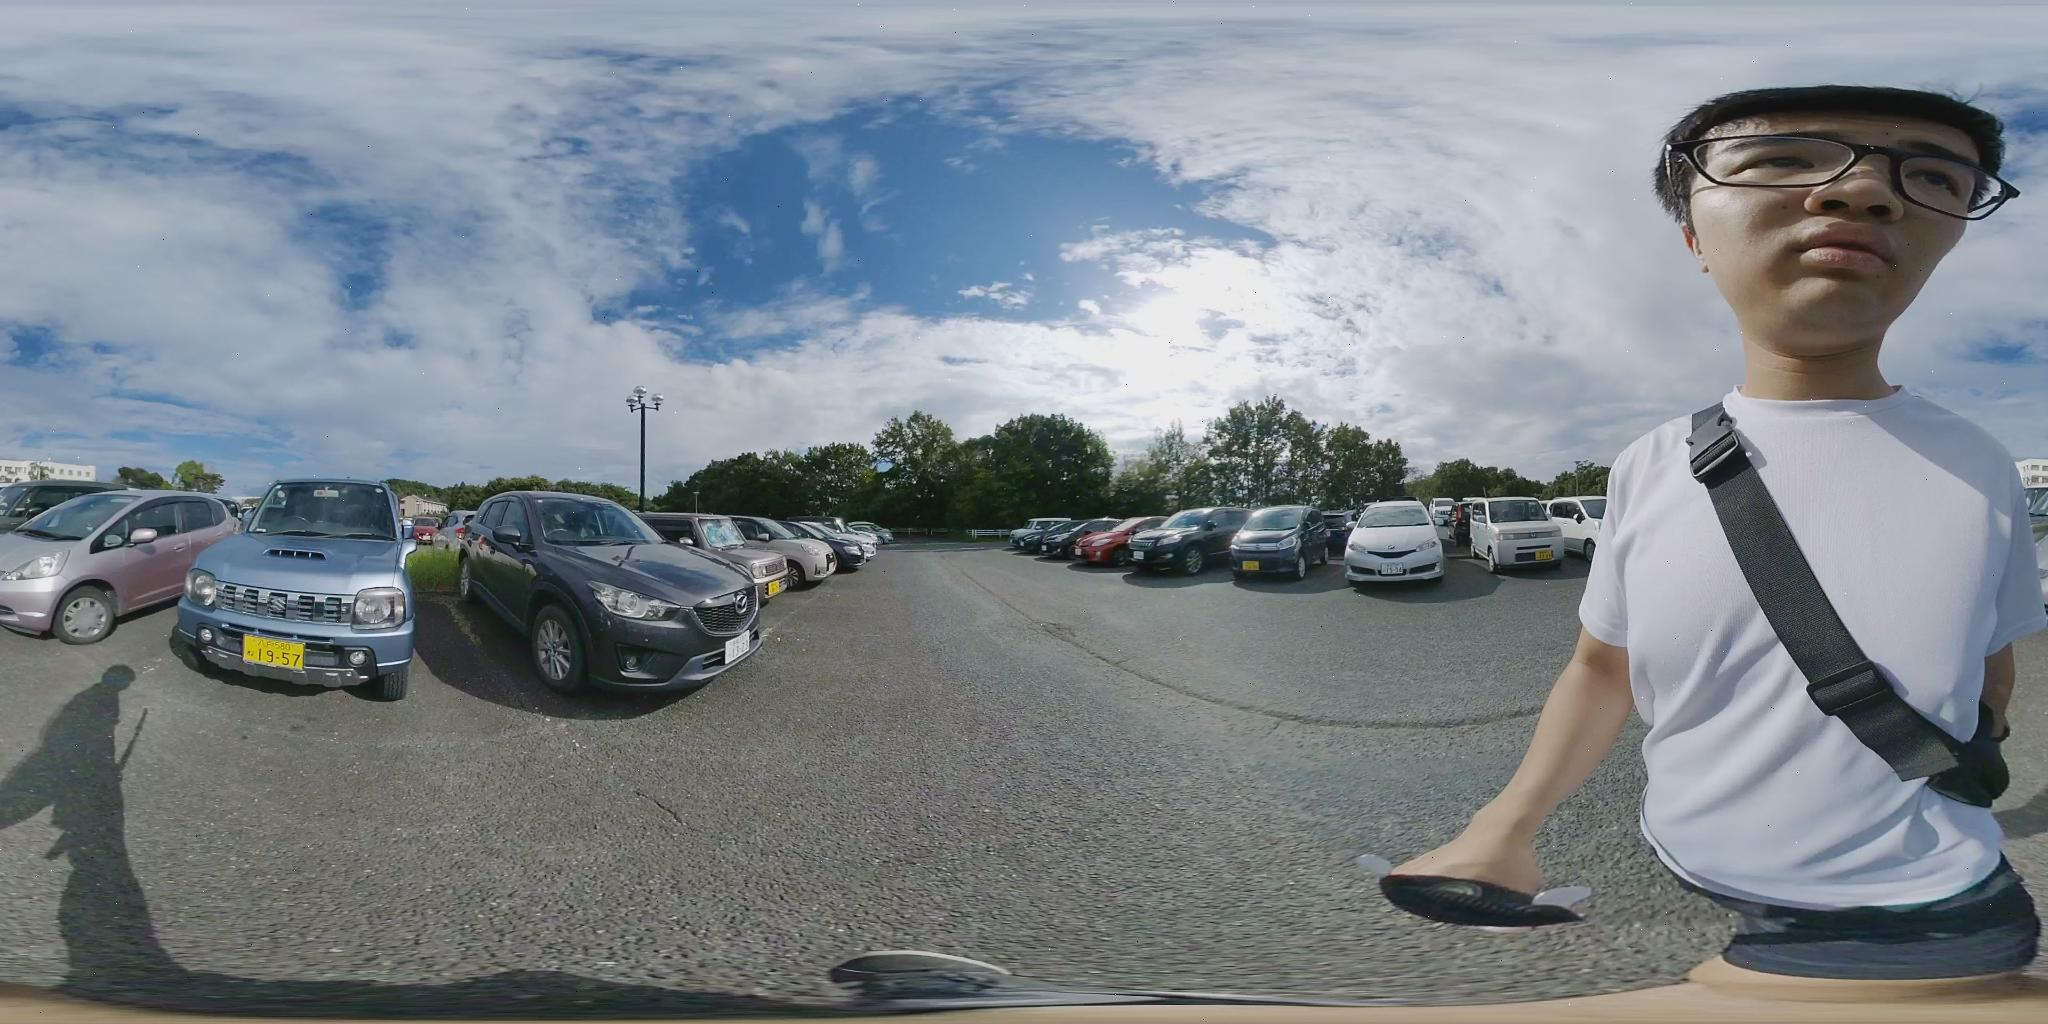car: (406, 491, 777, 717), (175, 478, 432, 703), (4, 491, 242, 643), (636, 513, 833, 593), (1339, 503, 1447, 581), (1123, 509, 1253, 575), (1462, 496, 1573, 569), (1230, 509, 1334, 577), (0, 482, 125, 537), (790, 517, 882, 569), (1070, 516, 1148, 566), (827, 521, 889, 559), (1006, 520, 1072, 554)
